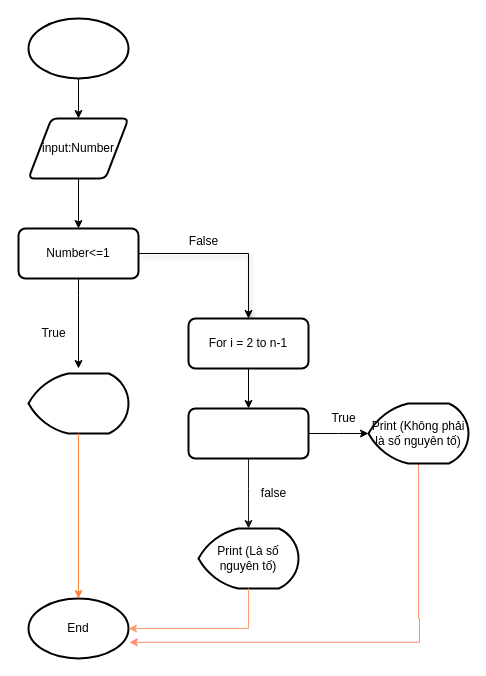
Some shapes in this 486 by 676 pixel diagram are drawn without their labels. The shapes that lost their labels are listed below. From the top down, each one's centre as x and y in pixels, then its label:
[78,48]: Start
[78,403]: Number khong phải la số nguyên tố
[248,433]: n % i == 0?
